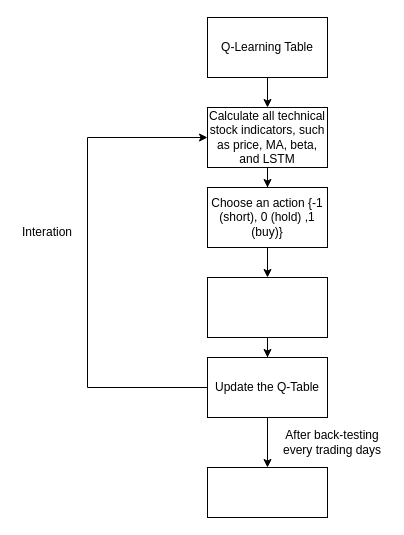
Some shapes in this 404 by 535 pixel diagram are drawn without their labels. The centre of each missing label's shape, as x and y in pixels:
"Evaluation" goes at point 267,492.
"Measure the reward (Calculate the profit)" goes at point 267,307.
